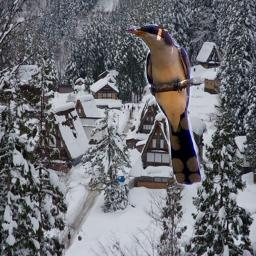Cuckoo: (123, 24, 205, 188)
